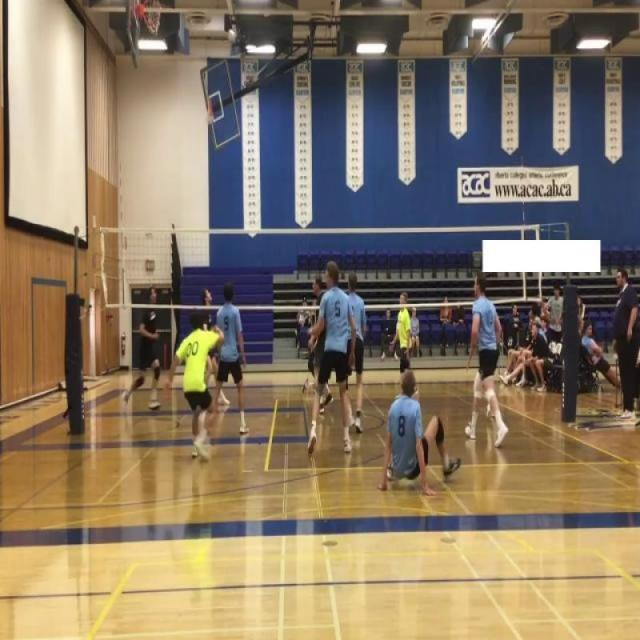volleyball: (226, 28, 237, 44)
